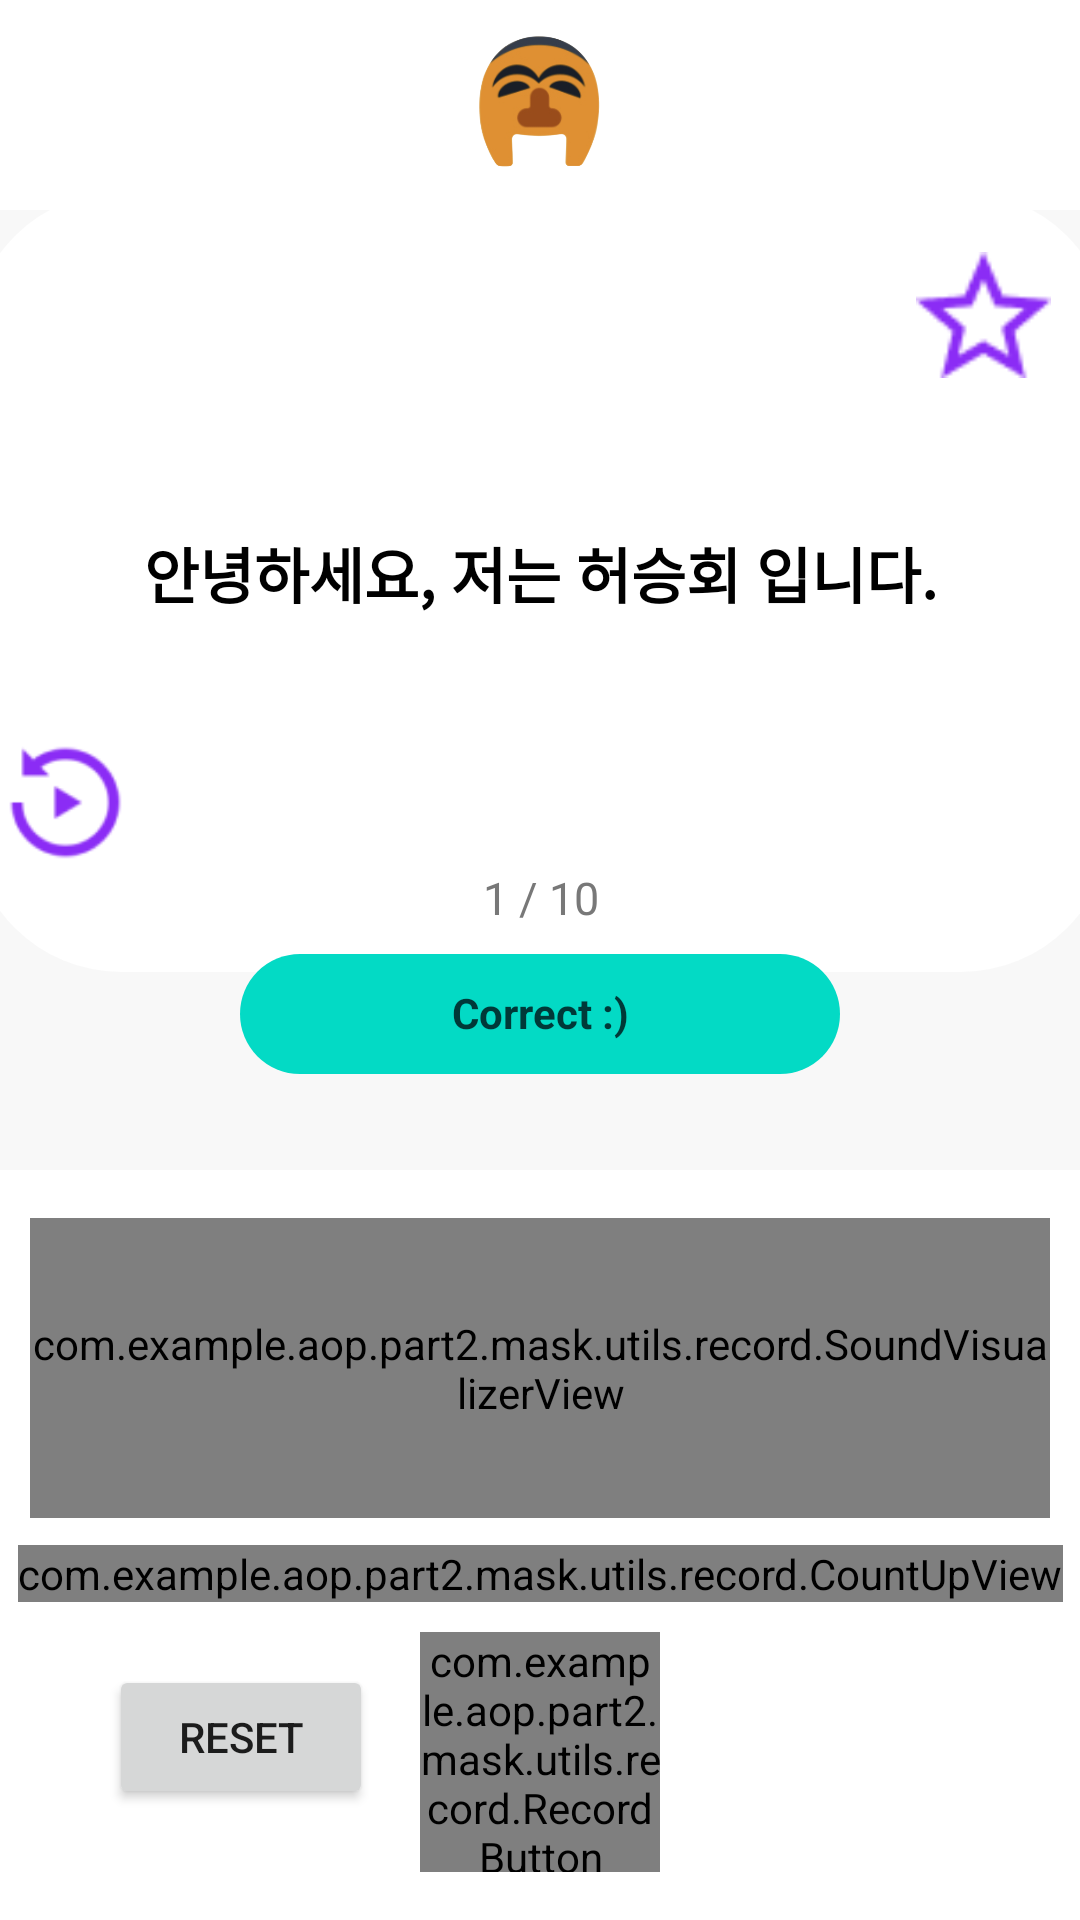

Point at icon controls on the screen. Image size 1080px×1920px, points as point (x, y).
emptystar: point (983, 315)
replay: point (65, 802)
